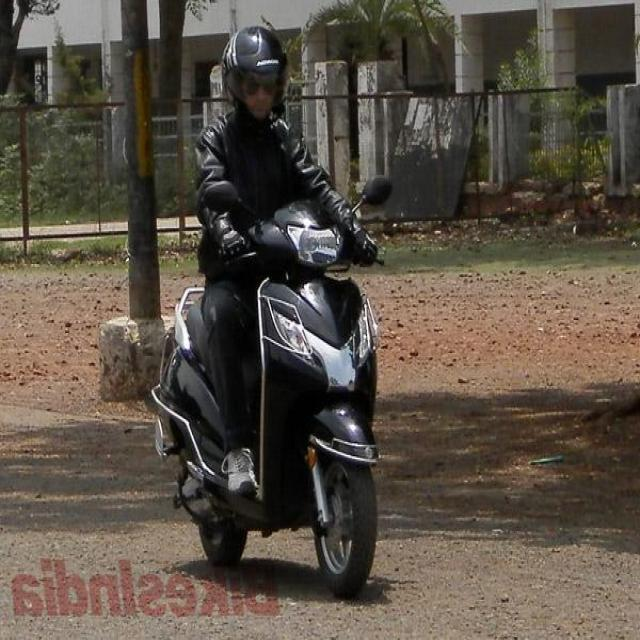helmet: (222, 30, 289, 109)
